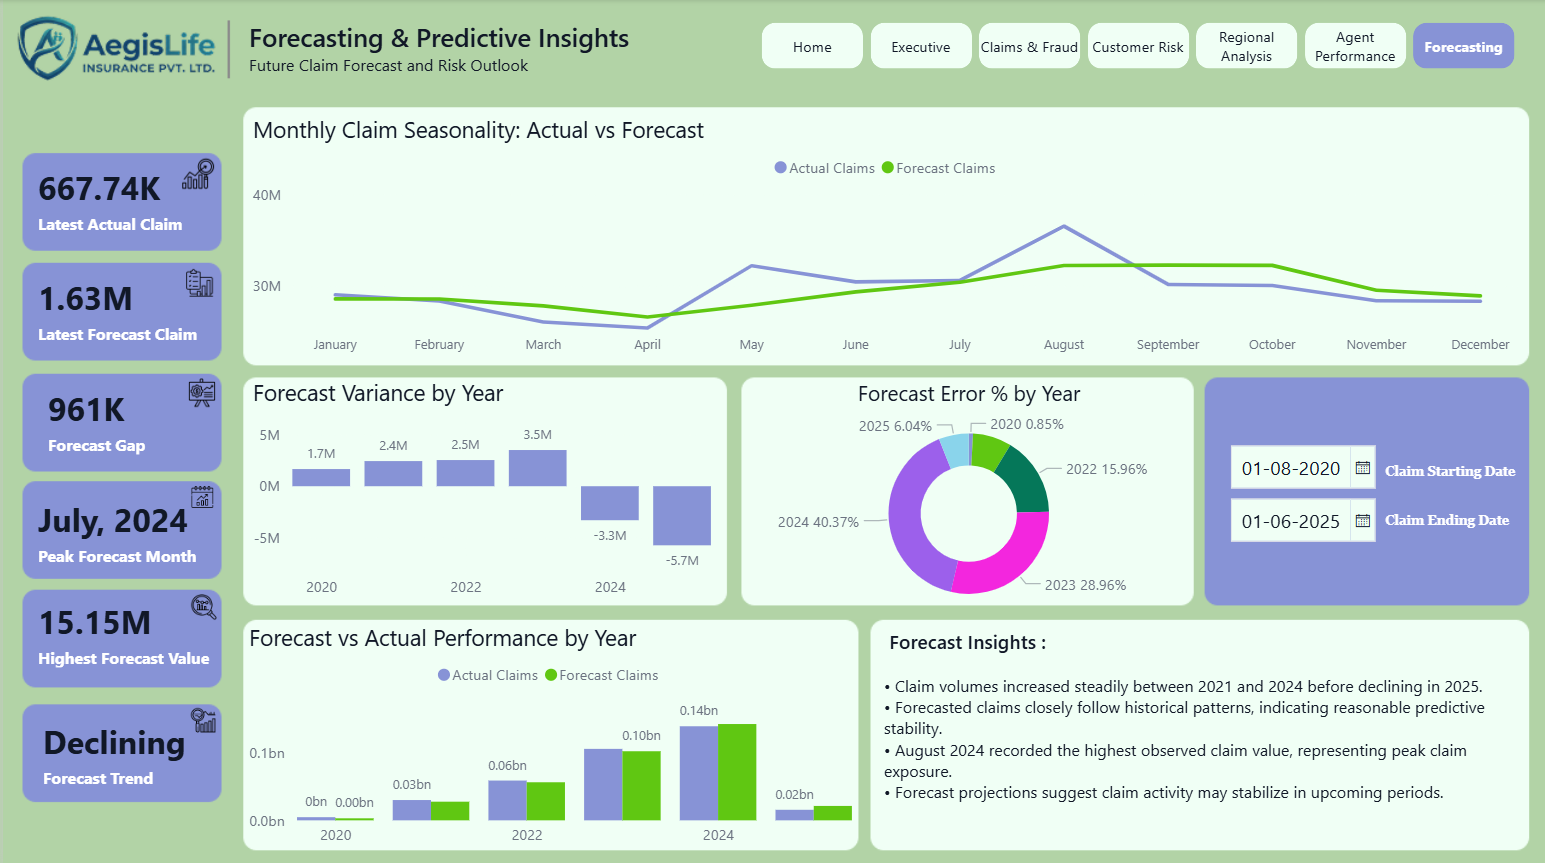

This screenshot's page, from the dashboard's own definition file:
{"tool":"powerbi","page":{"name":"Forecasting","canvas":[1280,720],"ordinal":6},"visuals":[{"type":"slicer","fields":{"Values":["aegis_database claim_forecast_results.Claim_Date"]},"box":[1005,360,152.5,131.2],"z":0},{"type":"lineChart","title":"Monthly Claim Seasonality: Actual vs Forecast","fields":{"Y":["aegis_database claim_forecast_results.Actual Claims","aegis_database claim_forecast_results.Forecast Claims"],"Category":["aegis_database claim_forecast_results.Claim_Date.Variation.Date Hierarchy.Month"]},"box":[202.5,95,1062.5,208.8],"z":1000},{"type":"donutChart","title":"Forecast Error % by Year","fields":{"Category":["aegis_database claim_forecast_results.Claim_Date.Variation.Date Hierarchy.Year"],"Y":["Sum(aegis_database claim_forecast_results.Moving_Average_Forecast)"]},"box":[520,315,561.2,201.2],"z":2000},{"type":"textbox","box":[198.9,11.7,348.3,59.8],"z":3000},{"type":"textbox","box":[1141.2,380,123.8,28.8],"z":4000},{"type":"textbox","box":[1141.2,416.2,123.8,42.5],"z":5000},{"type":"textbox","box":[725.1,516.4,540.1,195],"z":6000},{"type":"cardVisual","fields":{"Data":["aegis_database claim_forecast_results.Peak Forecast Month"]},"box":[0,380,215,122.5],"z":7000},{"type":"cardVisual","fields":{"Data":["aegis_database claim_forecast_results.Highest Forecast Value"]},"box":[0,472.5,232.4,106.7],"z":8000},{"type":"cardVisual","fields":{"Data":["aegis_database claim_forecast_results.Forecast Variance %"]},"box":[8.8,291.2,215,116.2],"z":9000},{"type":"cardVisual","fields":{"Data":["aegis_database claim_forecast_results.Forecast Trend"]},"box":[3.8,578.8,185,95],"z":10000},{"type":"cardVisual","fields":{"Data":["aegis_database claim_forecast_results.Latest Forecast Claim"]},"box":[0,201.2,213.8,113.8],"z":11000},{"type":"cardVisual","fields":{"Data":["aegis_database claim_forecast_results.Latest Actual Claim"]},"box":[0,95,203.8,141.2],"z":12000},{"type":"columnChart","title":"Forecast Variance by Year","fields":{"Y":["aegis_database claim_forecast_results.Forecast Error"],"Category":["aegis_database claim_forecast_results.Claim_Date.Variation.Date Hierarchy.Year"]},"box":[202.5,312.5,390,192.5],"z":13000},{"type":"clusteredColumnChart","title":"Forecast vs Actual Performance by Year","fields":{"Category":["aegis_database claim_forecast_results.Claim_Date.Variation.Date Hierarchy.Year"],"Y":["aegis_database claim_forecast_results.Actual Claims","aegis_database claim_forecast_results.Forecast Claims"]},"box":[198.8,516.4,510.1,195],"z":14000},{"type":"image","box":[145.9,402.9,38.2,19.4],"z":15000},{"type":"image","box":[150.6,219.4,25.9,31.2],"z":16000},{"type":"image","box":[152.9,308.8,23.5,35.3],"z":17000},{"type":"image","box":[153.5,493.5,25.9,21.8],"z":18000},{"type":"image","box":[142.9,131.2,38.2,26.5],"z":19000},{"type":"image","box":[141.8,587.6,47.6,21.2],"z":20000},{"type":"pageNavigator","box":[628.8,20,627.5,38.8],"z":21000}]}

Visuals, with their boxes in screenshot pixels (x1, y1, x2, y2), scaled from the page's 1280x720 canvas onto the 1545x863 screenshot:
slicer - aegis_database claim_forecast_results.Claim_Date: 1213, 432, 1397, 589
"Monthly Claim Seasonality: Actual vs Forecast" lineChart: 244, 114, 1527, 364
"Forecast Error % by Year" donutChart: 628, 378, 1305, 619
textbox: 240, 14, 660, 86
textbox: 1377, 455, 1527, 490
textbox: 1377, 499, 1527, 550
textbox: 875, 619, 1527, 853
cardVisual - aegis_database claim_forecast_results.Peak Forecast Month: 0, 455, 260, 602
cardVisual - aegis_database claim_forecast_results.Highest Forecast Value: 0, 566, 281, 694
cardVisual - aegis_database claim_forecast_results.Forecast Variance %: 11, 349, 270, 488
cardVisual - aegis_database claim_forecast_results.Forecast Trend: 5, 694, 228, 808
cardVisual - aegis_database claim_forecast_results.Latest Forecast Claim: 0, 241, 258, 378
cardVisual - aegis_database claim_forecast_results.Latest Actual Claim: 0, 114, 246, 283
"Forecast Variance by Year" columnChart: 244, 375, 715, 605
"Forecast vs Actual Performance by Year" clusteredColumnChart: 240, 619, 856, 853
image: 176, 483, 222, 506
image: 182, 263, 213, 300
image: 185, 370, 213, 412
image: 185, 592, 217, 618
image: 172, 157, 219, 189
image: 171, 704, 229, 730
pageNavigator: 759, 24, 1516, 70
